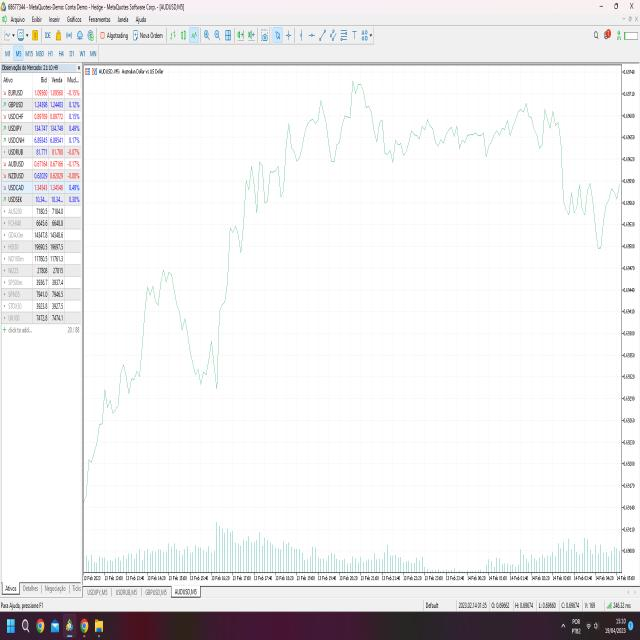bandeira_baixa: (554, 98, 595, 224)
